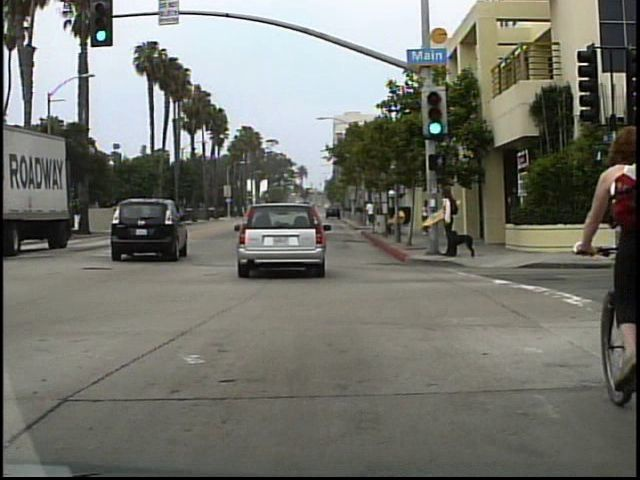person: (440, 185, 462, 253), (367, 196, 379, 230)
